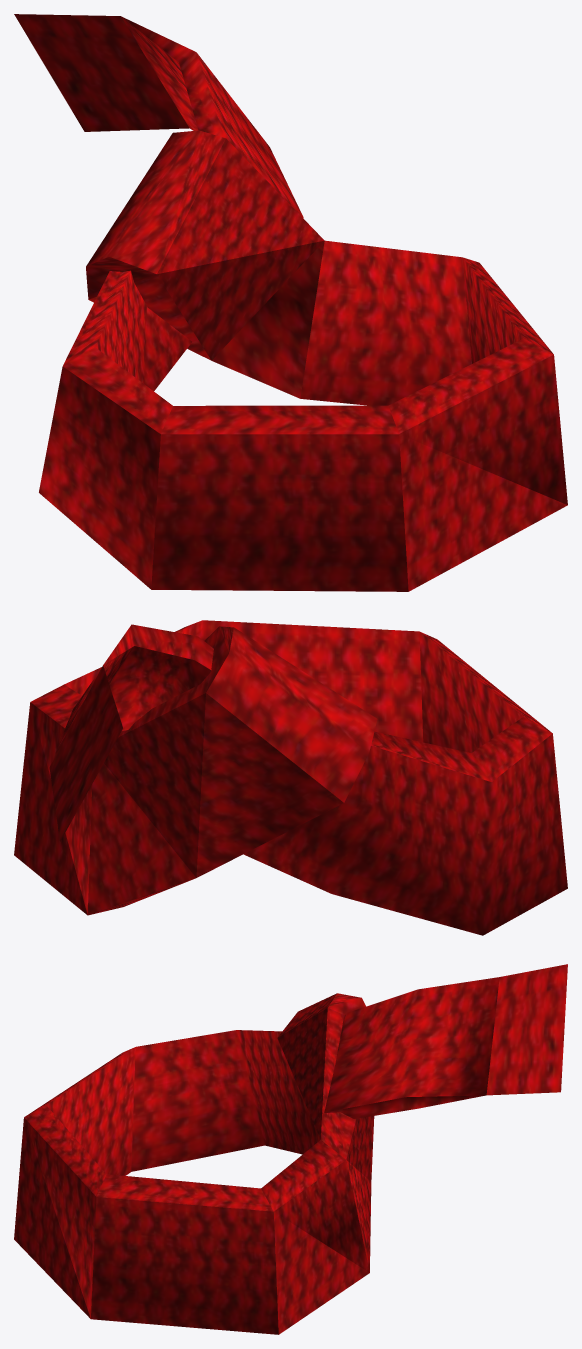
Rendered from Item12.FBX.
3 views of the same model, one above another, from view 1: azimuth 30°, elevation 25°; view 2: azimuth 150°, elevation 25°; view 3: azimuth 270°, elevation 25° (orthographic). The views are drawn at different scales.
Parts seen in each view (by area): view 1: item10; view 2: item10; view 3: item10.
Boxes of the visible parts, box(x1,y1,x2,y2) form: item10: box(14, 14, 567, 591); item10: box(14, 620, 567, 935); item10: box(14, 964, 567, 1334).
Bounding box in the file's own units: 13.99 × 10.13 × 18.8.
2 materials, 2 textured.
